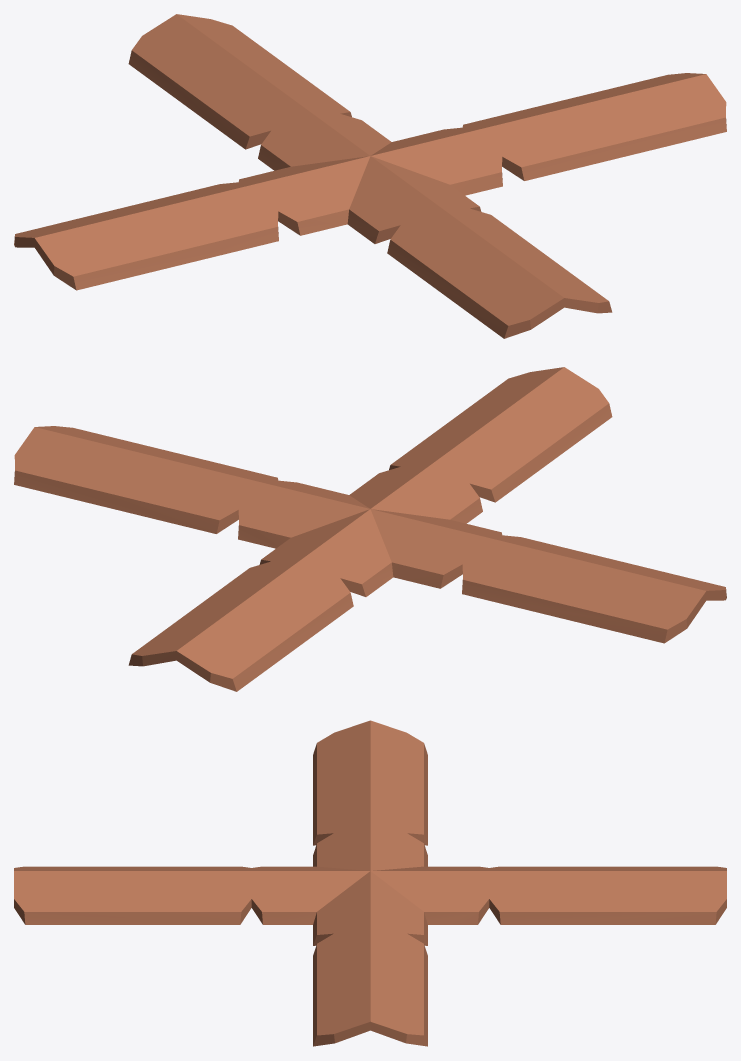
File: SM_Roof_Top_Cross_3m_Empire.fbx
3 renders of one model, top to bottom at view 1: azimuth 30°, elevation 25°; view 2: azimuth 150°, elevation 25°; view 3: azimuth 270°, elevation 25°, orthographic. The views are drawn at different scales.
Parts seen in each view (by area): view 1: SM_Roof_Top_Cross_3m_Empire; view 2: SM_Roof_Top_Cross_3m_Empire; view 3: SM_Roof_Top_Cross_3m_Empire.
Boxes of the visible parts, x1,y1,x2,y2 form: SM_Roof_Top_Cross_3m_Empire: (14,14,726,338); SM_Roof_Top_Cross_3m_Empire: (14,367,726,691); SM_Roof_Top_Cross_3m_Empire: (14,720,726,1046).
Bounding box in the file's own units: 3 × 0.1378 × 3.
